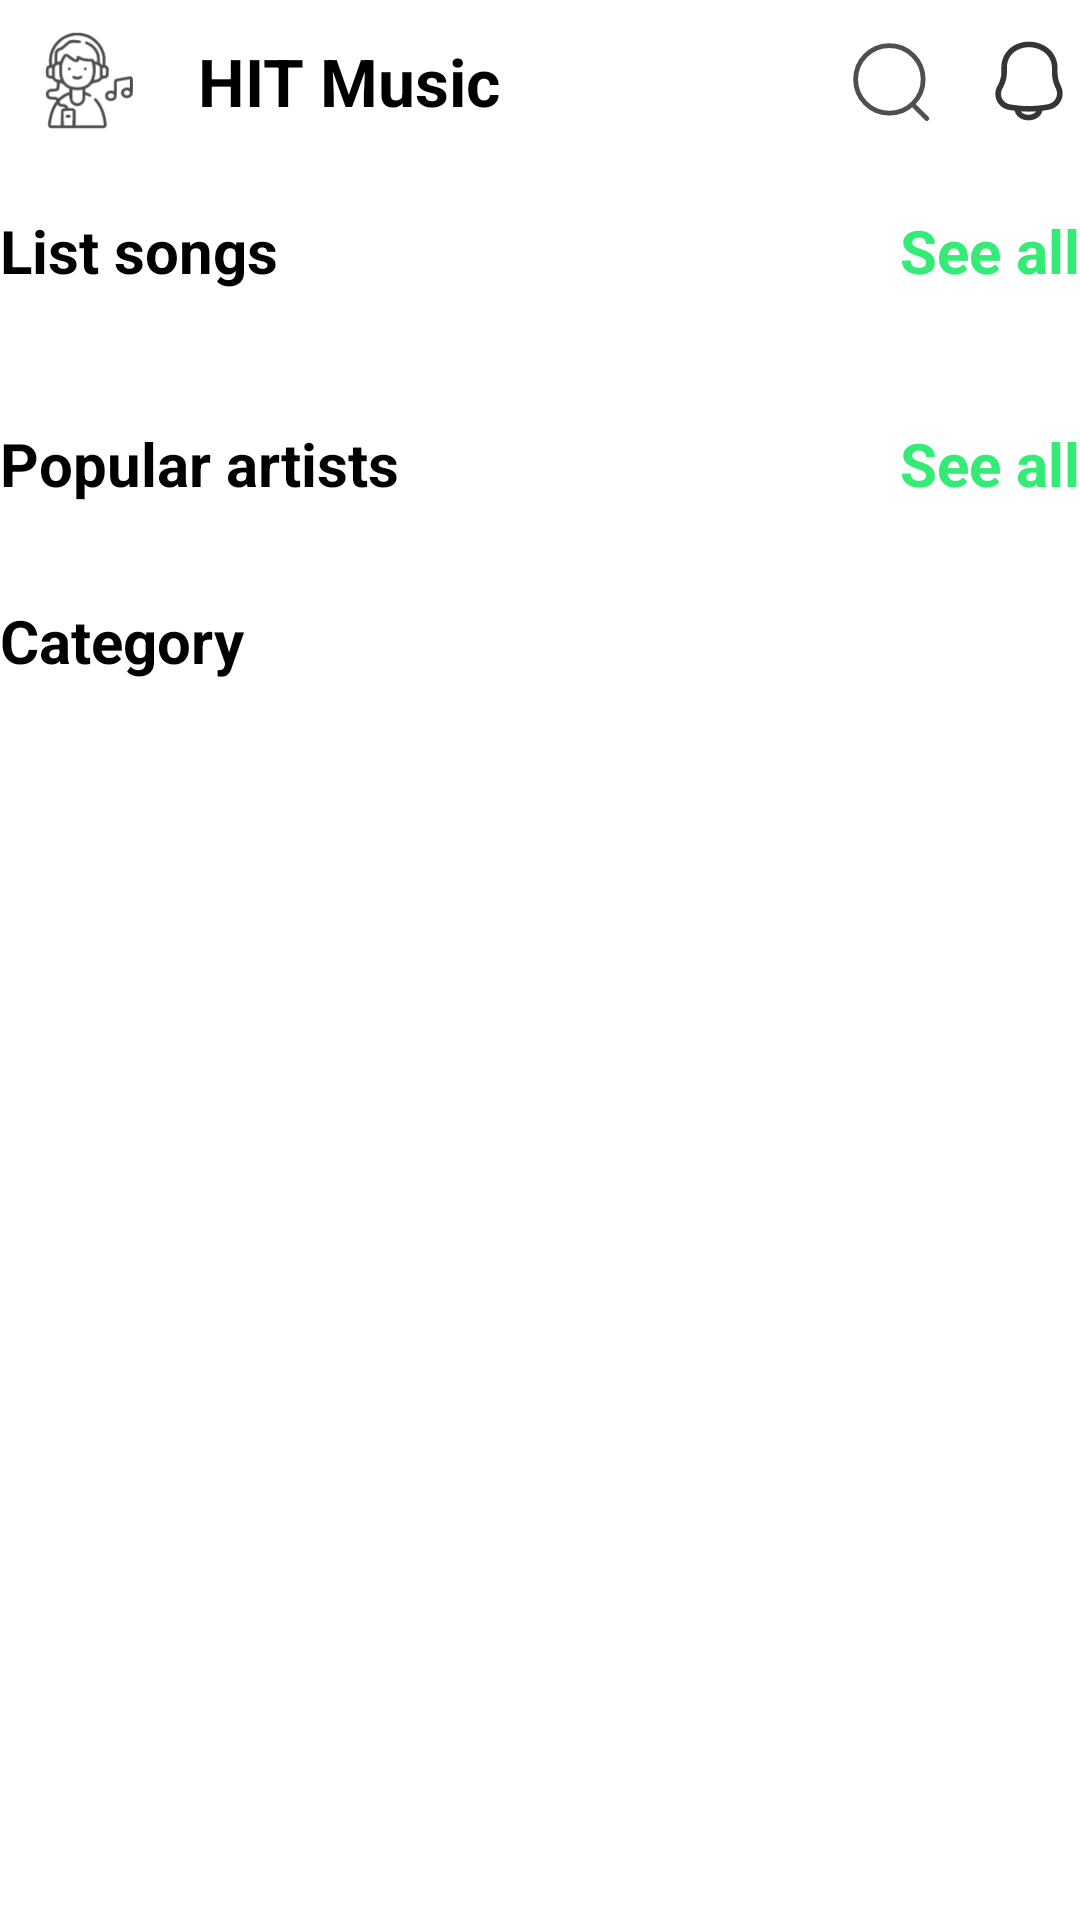

Named icons in this screenshot (1080 x 1920) and their bounding boxes, rect(x1, y1, x2, y2):
notification: rect(995, 41, 1063, 121)
search: rect(853, 43, 930, 121)
